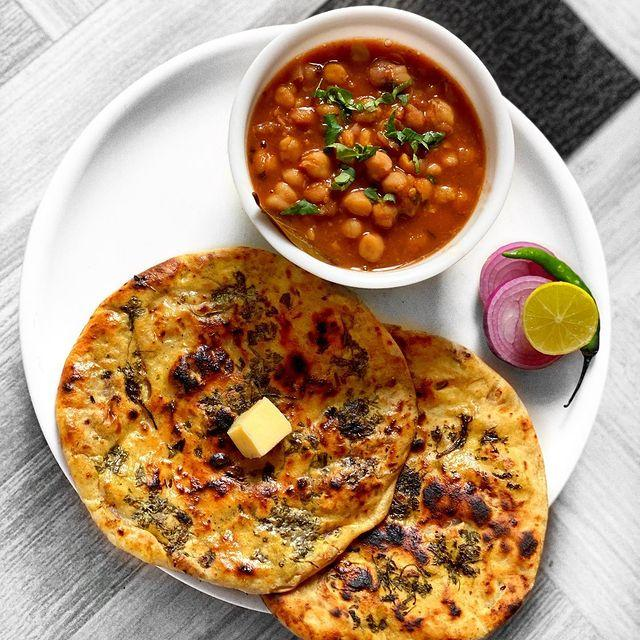Chole: (243, 11, 511, 278)
